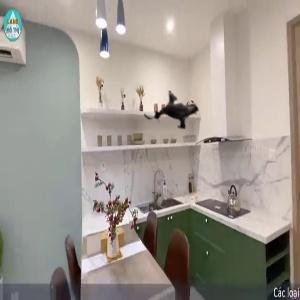drone: (142, 72, 214, 144)
